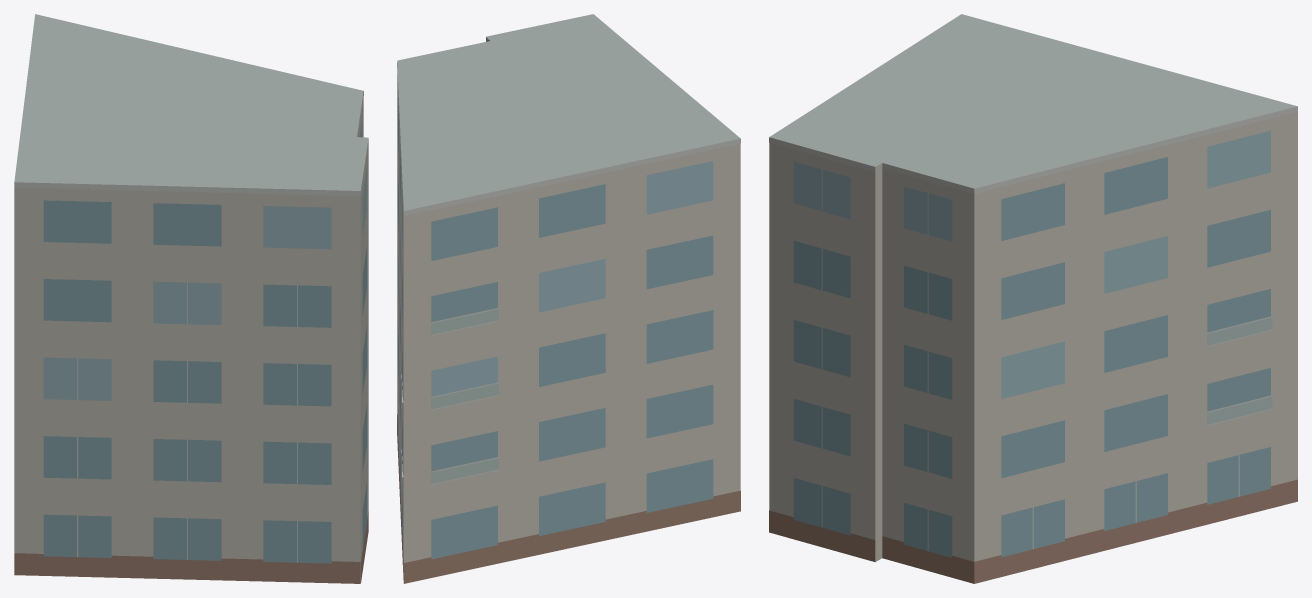
The model's file is survey-upis-32894025.glb.
The picture shows the model from 3 angles, left to right: view 1: azimuth 30°, elevation 25°; view 2: azimuth 150°, elevation 25°; view 3: azimuth 270°, elevation 25°; orthographic projection. The views are drawn at different scales.
Visible parts, largest first — view 1: survey-upis-32894025.tmp; view 2: survey-upis-32894025.tmp; view 3: survey-upis-32894025.tmp.
Boxes of the visible parts, <box> form: survey-upis-32894025.tmp: <box>14,14,368,583</box>; survey-upis-32894025.tmp: <box>397,14,740,583</box>; survey-upis-32894025.tmp: <box>769,14,1297,583</box>.
Bounding box in the file's own units: 17.15 × 18.09 × 21.94.
